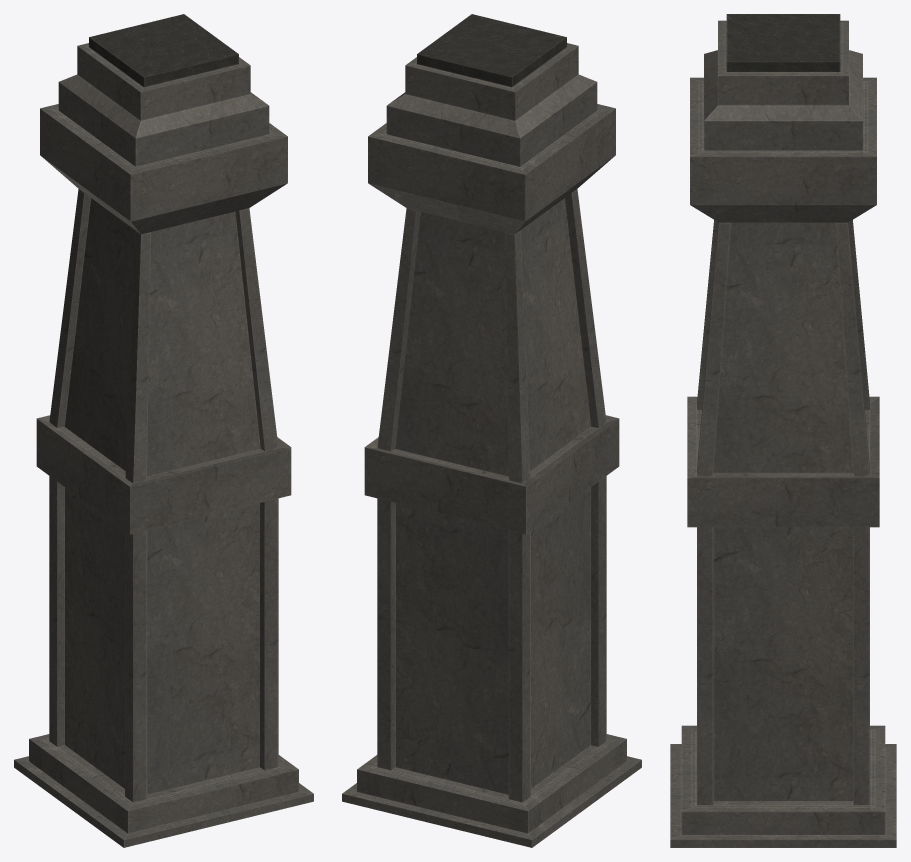
Rendered from TowerBase 1.fbx.
3 views of the same model, side by side, from view 1: azimuth 30°, elevation 25°; view 2: azimuth 150°, elevation 25°; view 3: azimuth 270°, elevation 25° (orthographic). The views are drawn at different scales.
Parts seen in each view (by area): view 1: pCube1; view 2: pCube1; view 3: pCube1.
Boxes of the visible parts, <box> form: pCube1: <box>14,14,313,847</box>; pCube1: <box>342,14,641,847</box>; pCube1: <box>670,14,896,847</box>.
Size of the model in its own units: 50 by 186 by 50.
